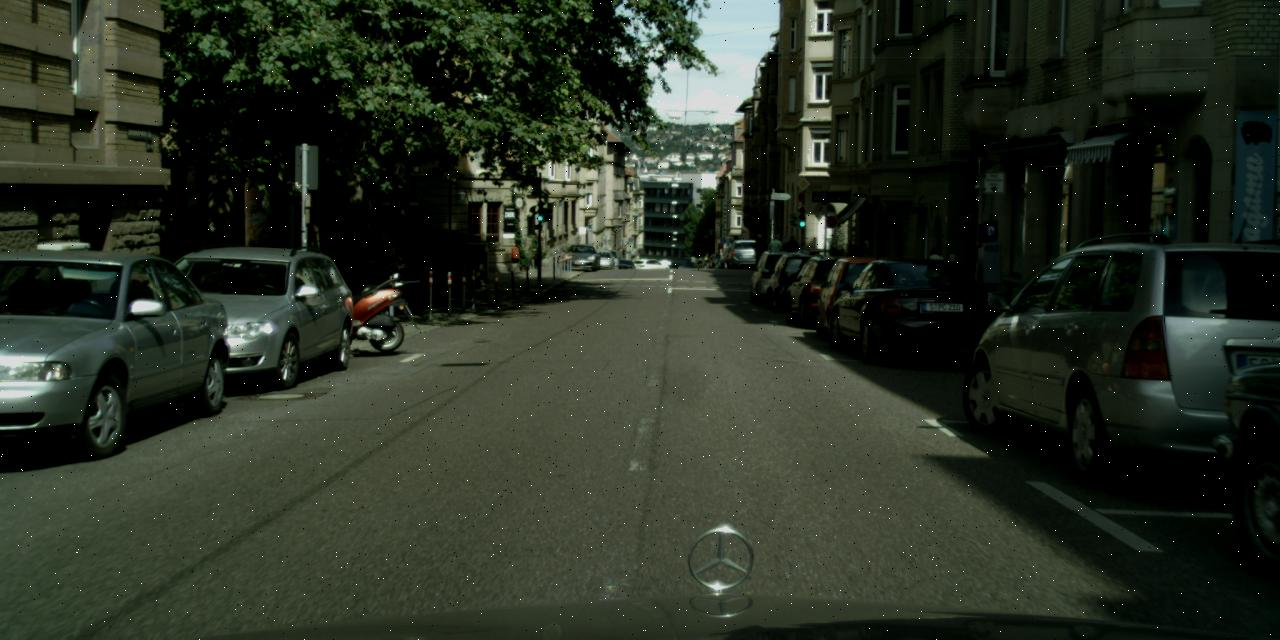ped: (923, 245, 948, 308), (752, 234, 767, 271), (768, 235, 783, 272), (784, 235, 799, 272)
